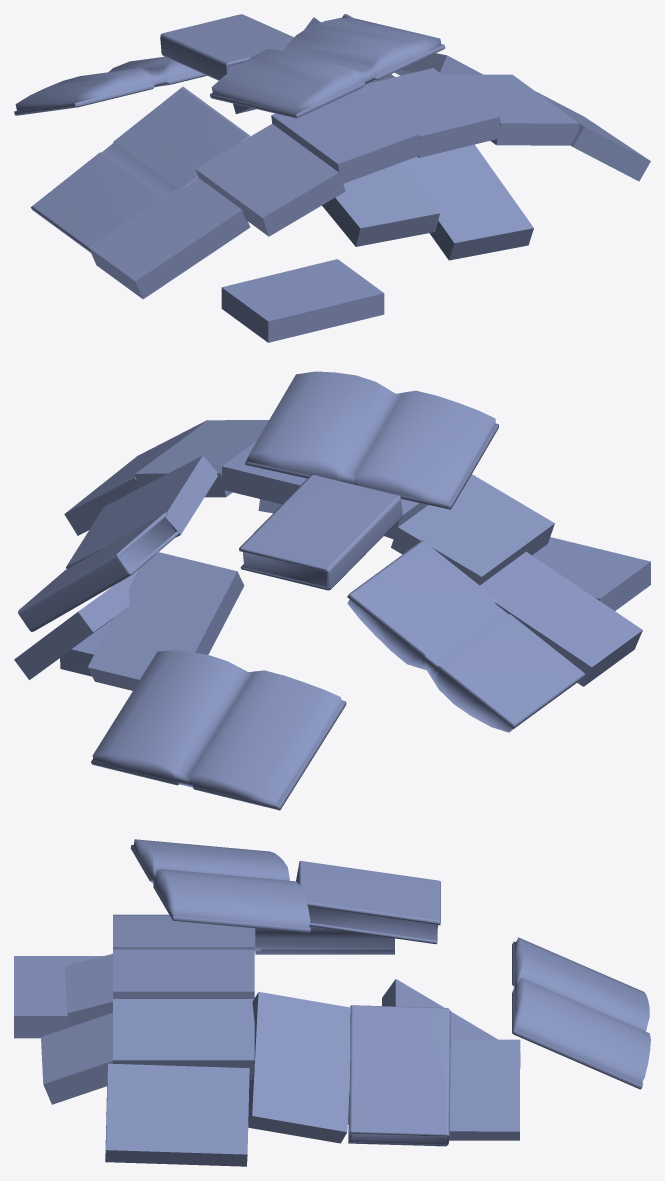
Rendered from Book_Pile_07A_Lod0.fbx.
3 renders of one model, top to bottom at view 1: azimuth 30°, elevation 25°; view 2: azimuth 150°, elevation 25°; view 3: azimuth 270°, elevation 25°, orthographic. The views are drawn at different scales.
Visible parts, largest first — view 1: Book_Pile_07A_Lod0; view 2: Book_Pile_07A_Lod0; view 3: Book_Pile_07A_Lod0.
Boxes of the visible parts, x1,y1,x2,y2 form: Book_Pile_07A_Lod0: (14, 14, 650, 342); Book_Pile_07A_Lod0: (14, 371, 650, 810); Book_Pile_07A_Lod0: (14, 839, 650, 1166).
Bounding box in the file's own units: 133 × 50.9 × 142.
